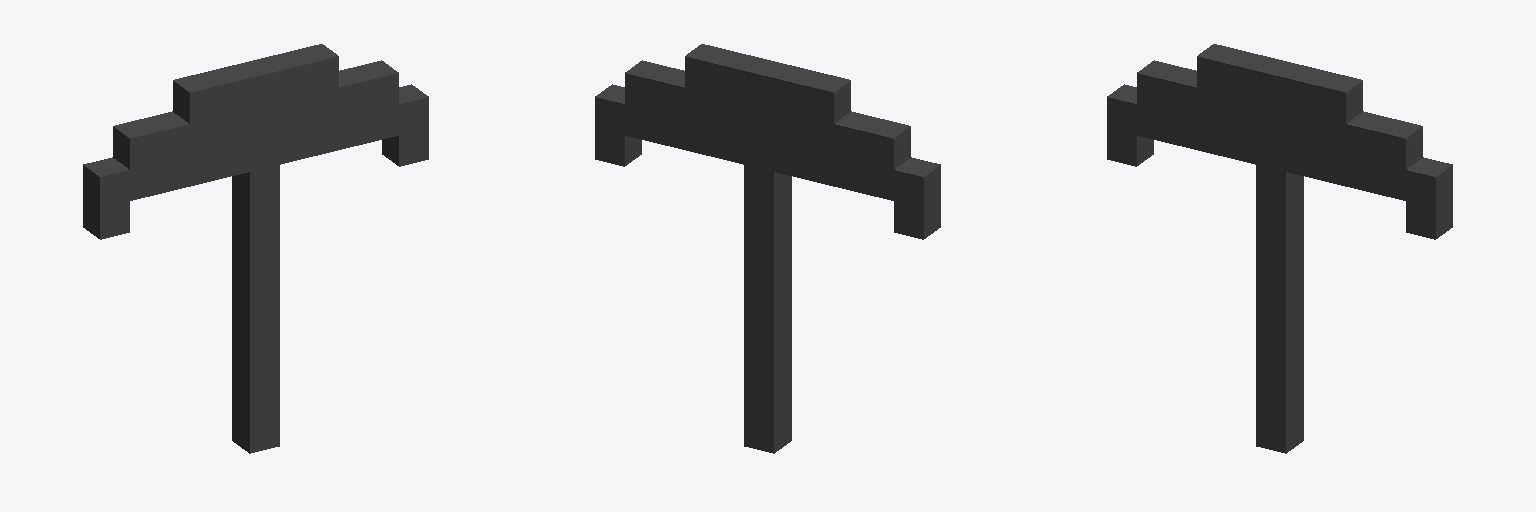
3 views of the same model, side by side, from view 1: azimuth 30°, elevation 25°; view 2: azimuth 150°, elevation 25°; view 3: azimuth 330°, elevation 25° (orthographic).
Parts seen in each view (by area): view 1: object 1; view 2: object 1; view 3: object 1.
Part boxes in pixels (x1,y1,x2,y2): object 1: (83,44,428,453); object 1: (595,44,940,453); object 1: (1107,44,1452,453).
Size of the model in its own units: 1.1 by 1.2 by 0.1.
Materials: 1 (1 with a texture image).